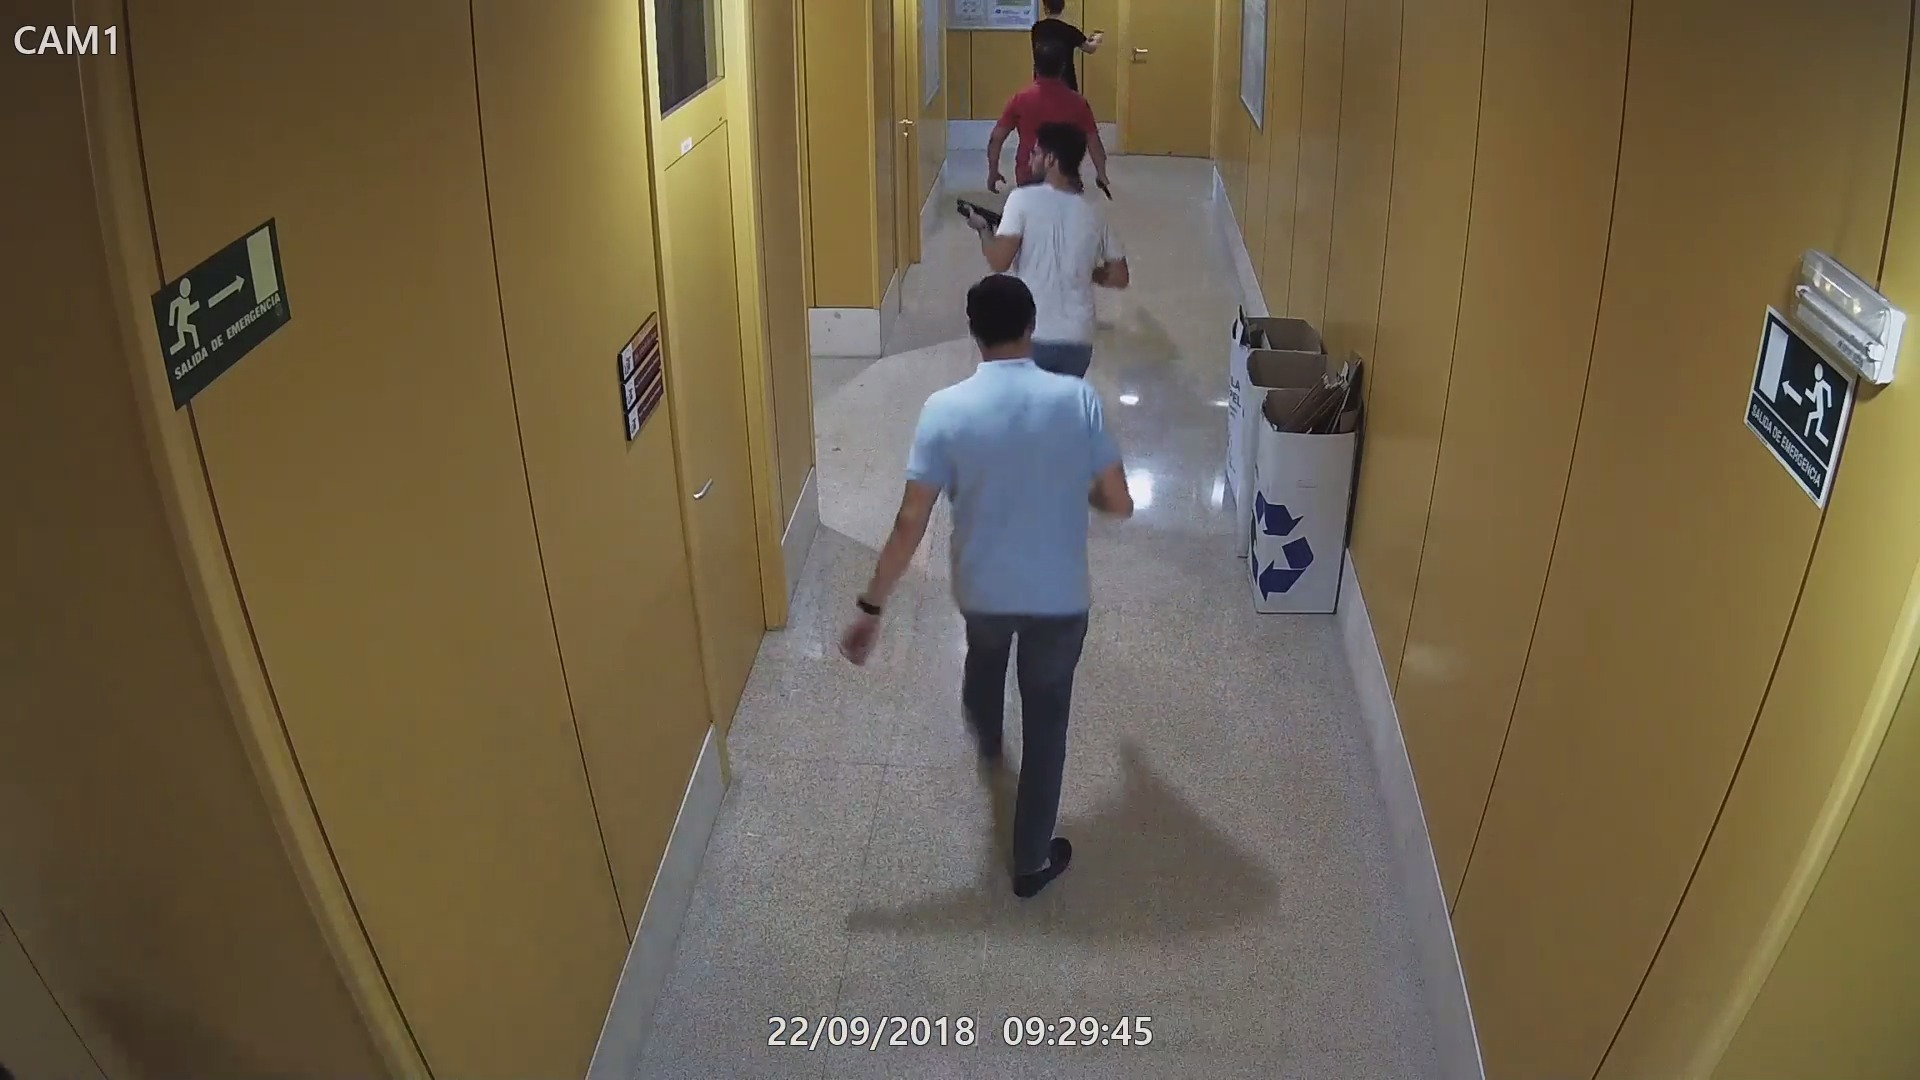Handgun: (1091, 173, 1116, 200), (1084, 28, 1108, 40)
Short_rifle: (956, 189, 1002, 233)
